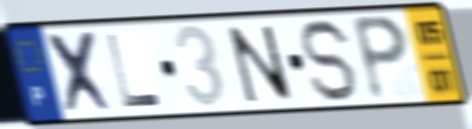3: (173, 22, 231, 112)
L: (103, 31, 165, 110)
N: (224, 23, 298, 106)
P: (349, 12, 412, 104)
S: (299, 16, 361, 106)
X: (43, 28, 120, 117)
